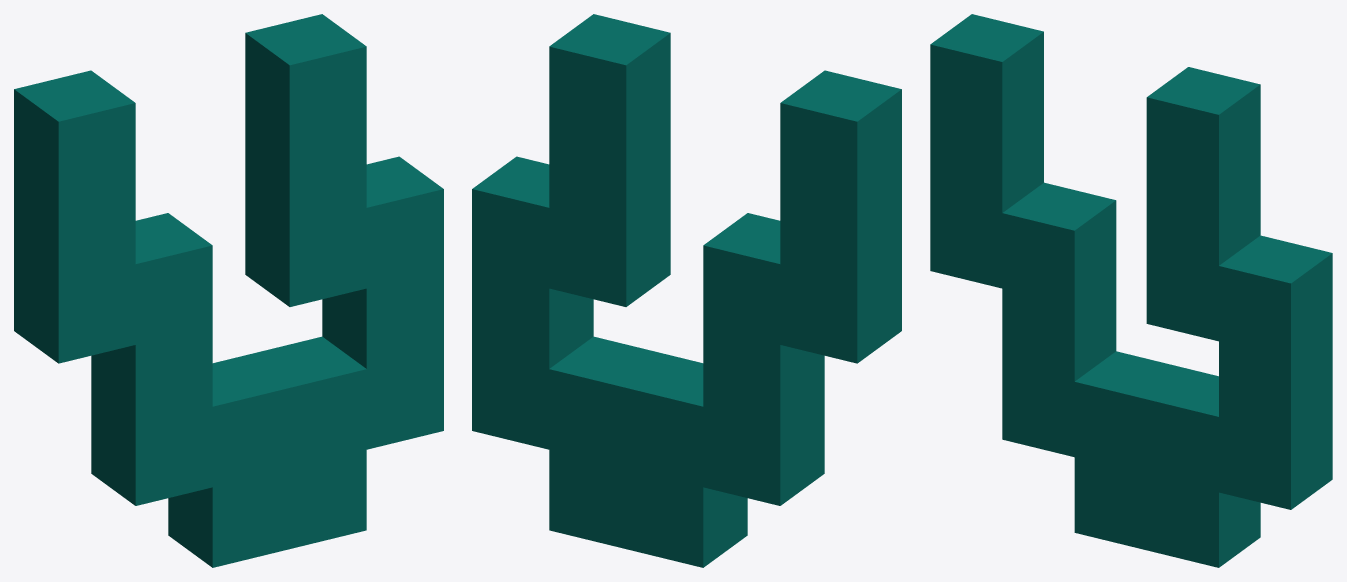
Rendered from grass-01.obj.
3 views of the same model, side by side, from view 1: azimuth 30°, elevation 25°; view 2: azimuth 150°, elevation 25°; view 3: azimuth 330°, elevation 25° (orthographic). The views are drawn at different scales.
Size of the model in its own units: 5 by 6 by 1.
Materials: 1 (1 with a texture image).
